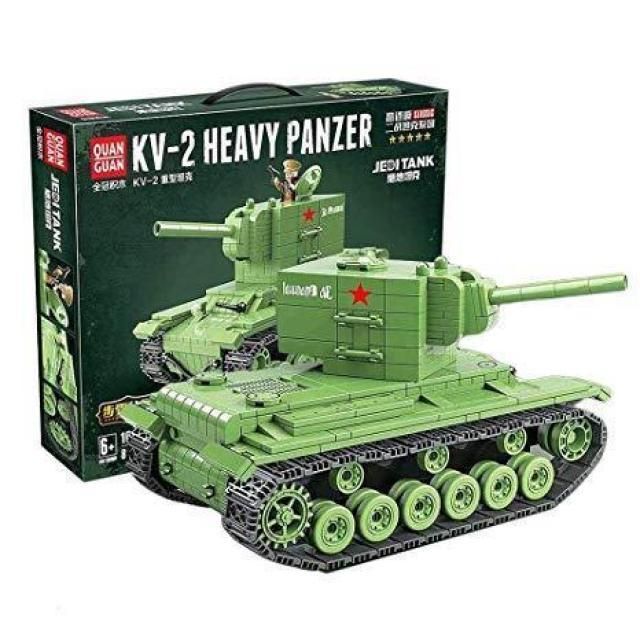MIL_MBT: (165, 236, 568, 567)
